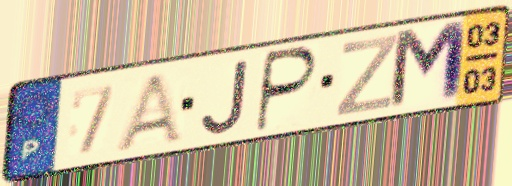7: (68, 82, 116, 157)
A: (111, 69, 187, 153)
J: (199, 56, 252, 136)
M: (385, 17, 470, 115)
P: (252, 44, 322, 136)
Z: (332, 31, 401, 119)
